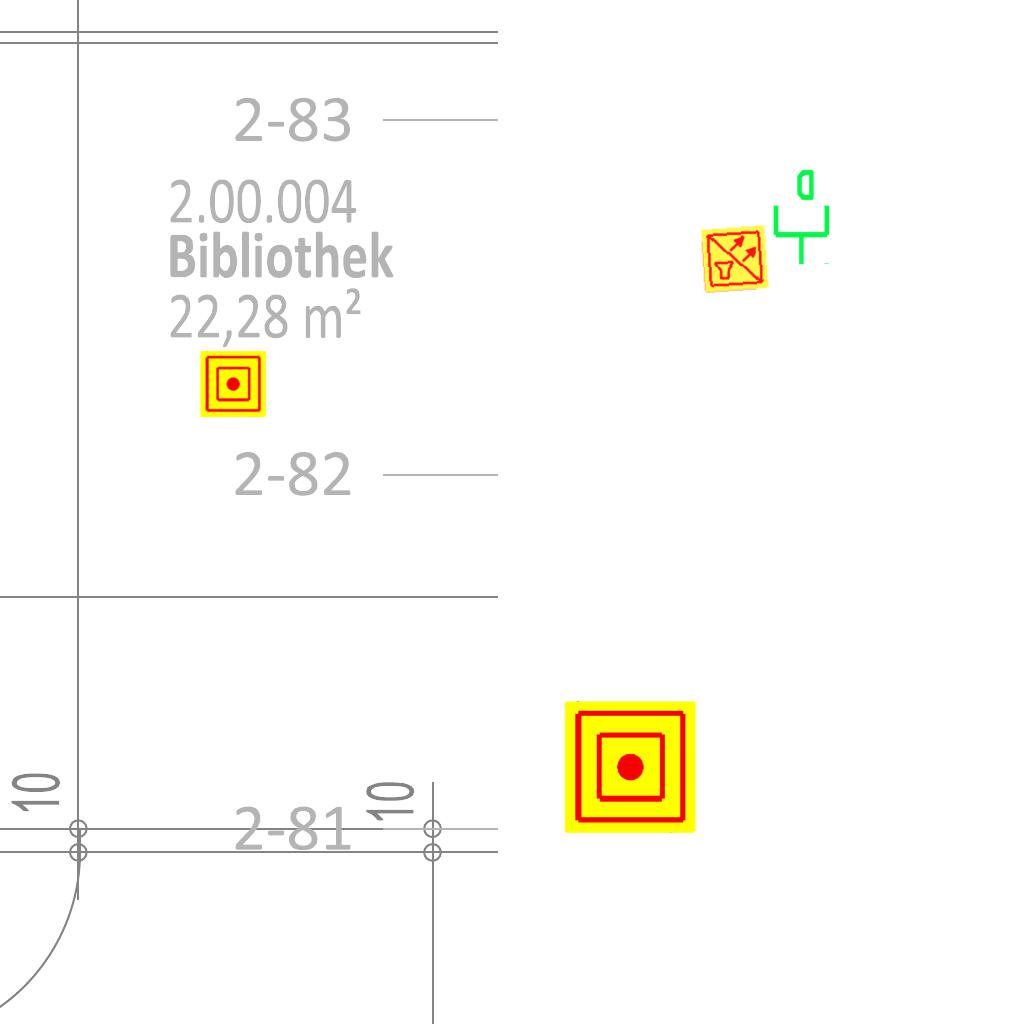Datenanschluss_einfach: (765, 167, 834, 267)
NAM-Nichtautomatischer_Melder: (564, 701, 696, 833), (200, 351, 266, 417)
OKW_Multisensormelder_(Kombination_optischer_Rauch-Kahlenmonoxid_Waerme-Melder): (699, 223, 771, 295)
